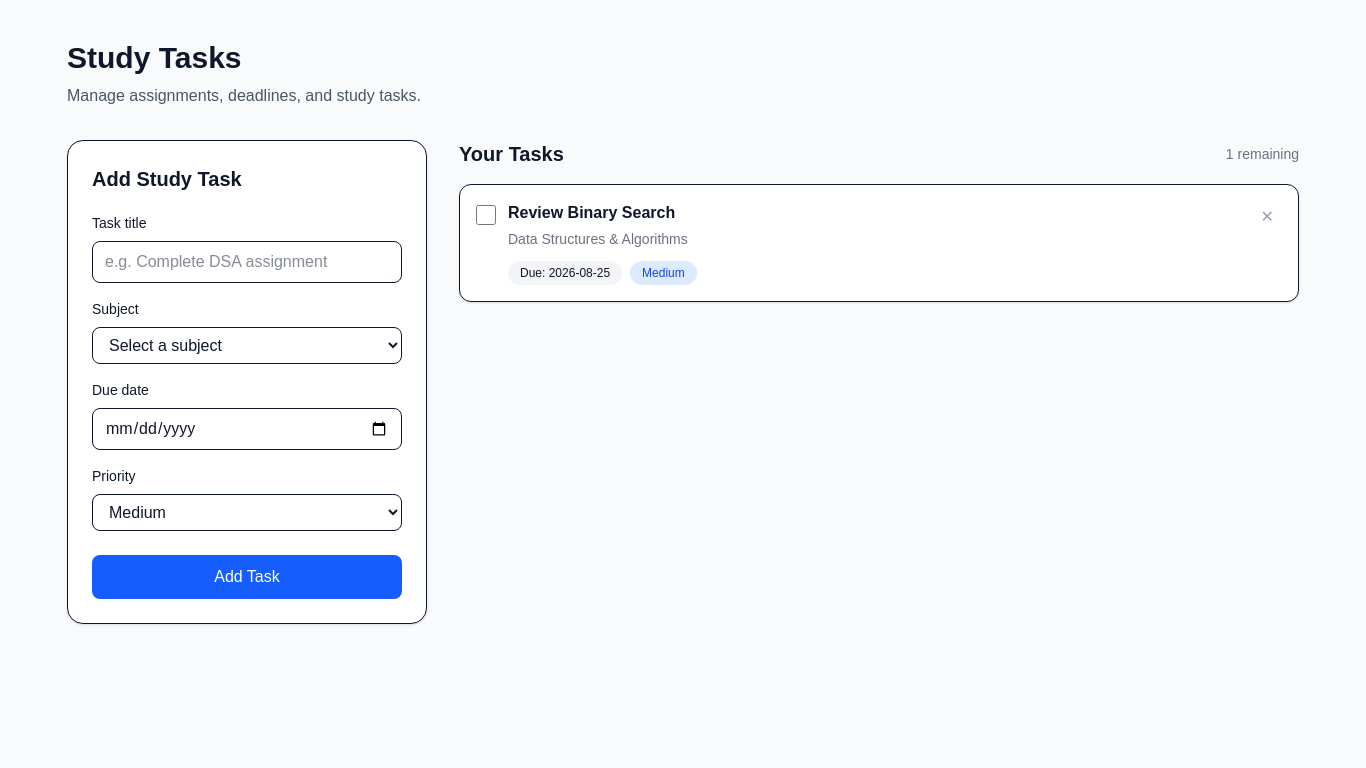
it: Tasks › deletes a task
Expected: the heading "Review Binary Search" is shown, x1=508 y1=204 x2=675 y2=221
Click the button named "delete": (1267, 217) x1=1253 y1=201 x2=1282 y2=233
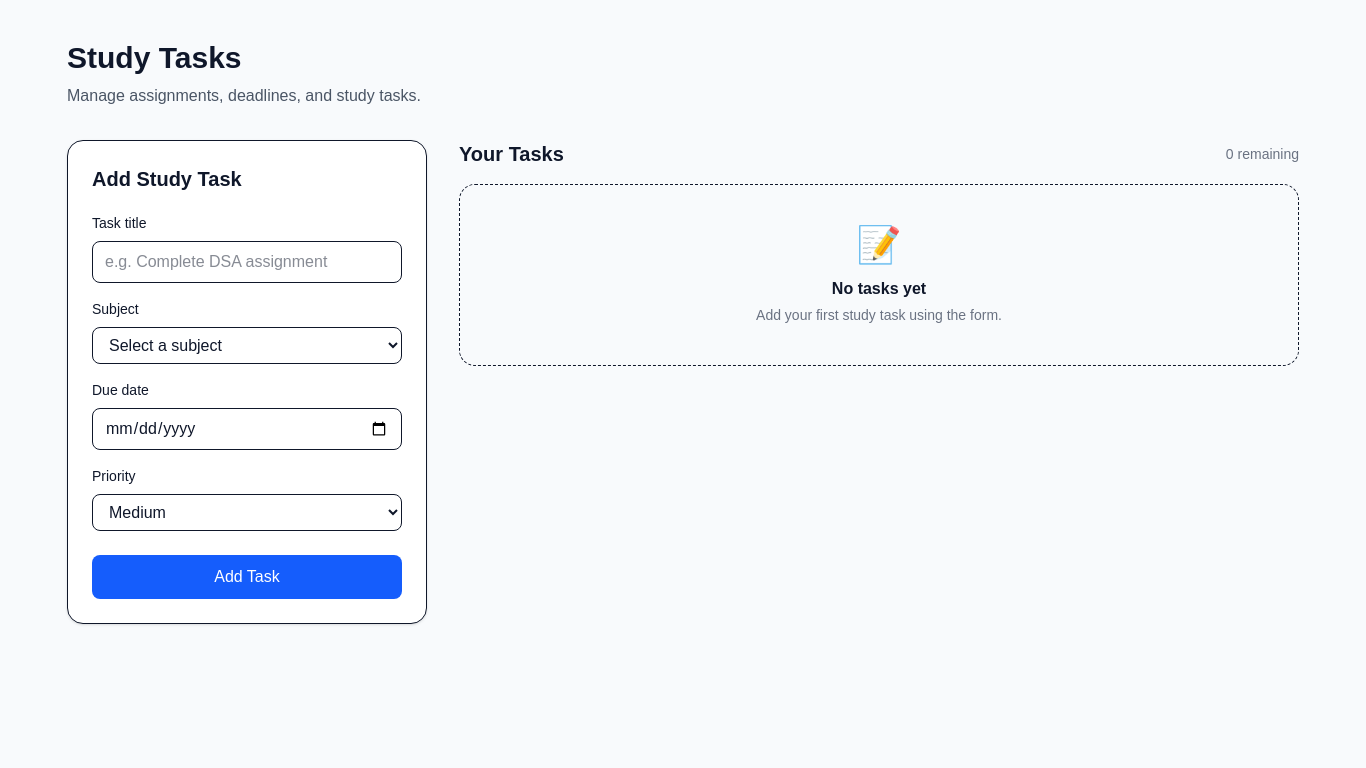
Expected: the heading "Review Binary Search" is gone
